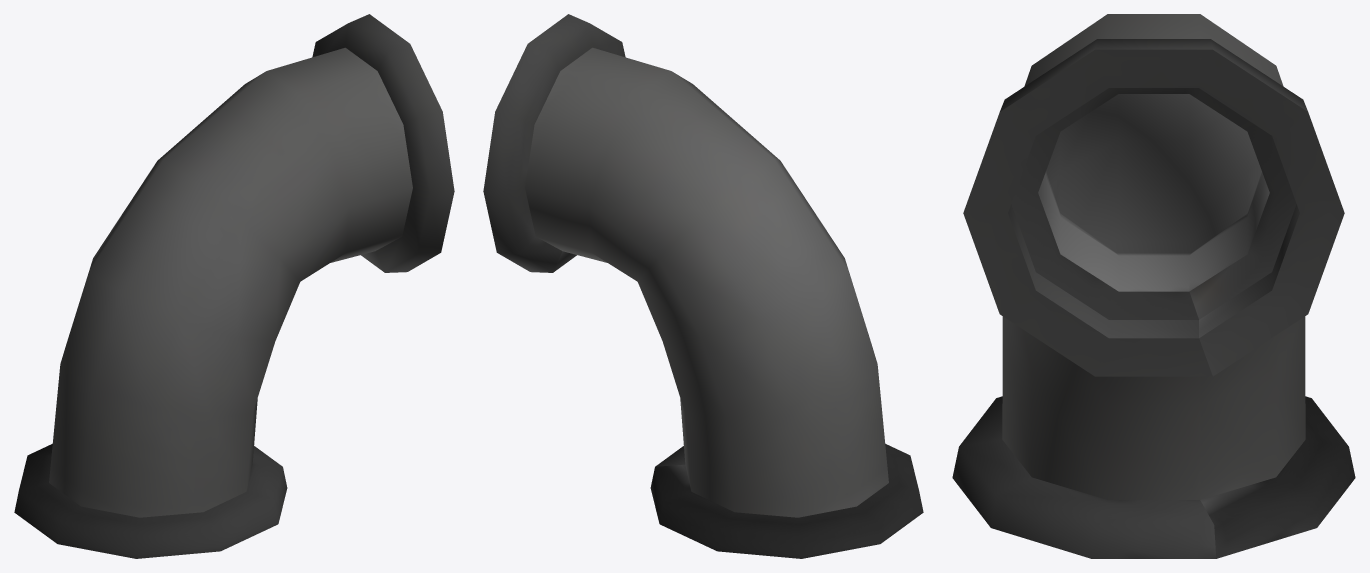
Rendered from Cano_Curvado.glb.
The picture shows the model from 3 angles, left to right: view 1: azimuth 30°, elevation 25°; view 2: azimuth 150°, elevation 25°; view 3: azimuth 270°, elevation 25°; orthographic projection. The views are drawn at different scales.
Visible parts, largest first — view 1: Cano.Curvado; view 2: Cano.Curvado; view 3: Cano.Curvado.
Boxes of the visible parts, x1,y1,x2,y2 form: Cano.Curvado: (14,14,454,558); Cano.Curvado: (483,14,923,558); Cano.Curvado: (952,14,1355,558).
Size of the model in its own units: 0.5025 by 0.5605 by 0.3432.
1 material, 1 textured.
